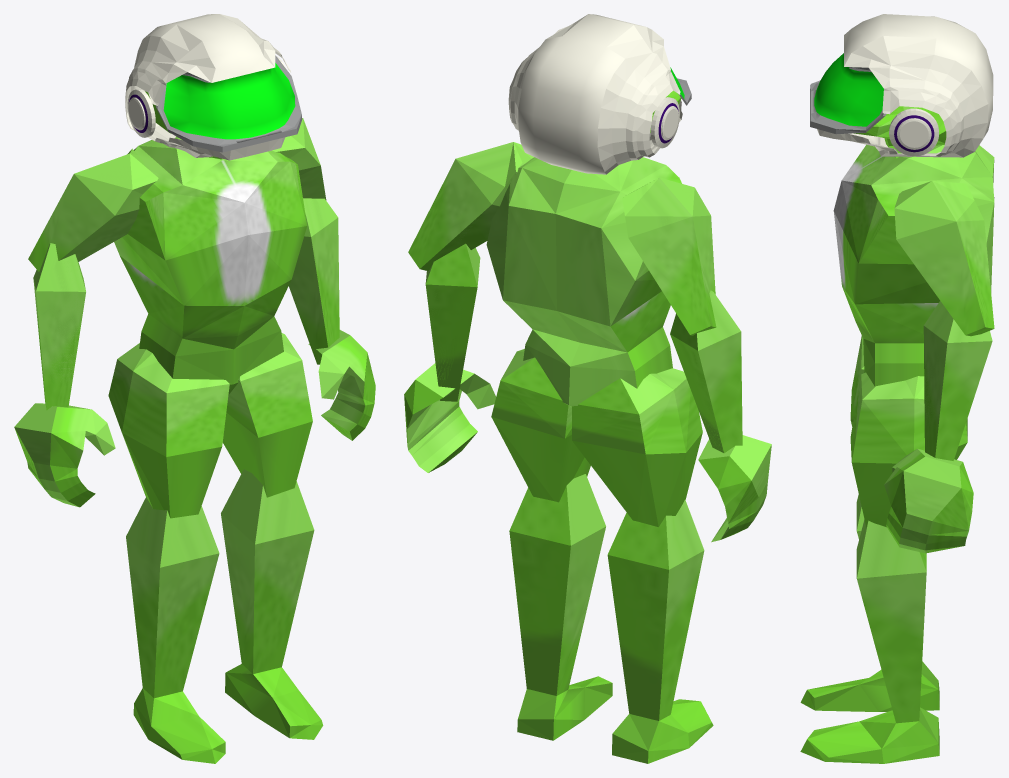
File: gloo_v8_rig2.fbx
The picture shows the model from 3 angles, left to right: view 1: azimuth 30°, elevation 25°; view 2: azimuth 150°, elevation 25°; view 3: azimuth 270°, elevation 25°; orthographic projection. The views are drawn at different scales.
Parts seen in each view (by area): view 1: c.torso, c.goggles, l.leg.lower, r.leg.lower, r.leg.thigh, l.leg.thigh, r.arm.upper, r_hand, r.arm.lower, l.arm.lower, l.hand, l.arm.upper; view 2: c.torso, c.goggles, r.leg.lower, l.leg.lower, r.leg.thigh, r.arm.upper, l.leg.thigh, l.arm.upper, r.arm.lower, l.hand, l.arm.lower, r_hand; view 3: c.goggles, c.torso, l.leg.lower, l.arm.upper, l.leg.thigh, l.hand, l.arm.lower, r.leg.lower, c.head, r.leg.thigh.
Boxes of the visible parts, left/top/right/bottom form: c.torso: left=114, top=136, right=306, bottom=394; c.goggles: left=125, top=14, right=302, bottom=160; l.leg.lower: left=221, top=469, right=323, bottom=739; r.leg.lower: left=126, top=497, right=225, bottom=763; r.leg.thigh: left=108, top=343, right=229, bottom=518; l.leg.thigh: left=222, top=333, right=312, bottom=497; r.arm.upper: left=28, top=148, right=158, bottom=271; r_hand: left=14, top=403, right=115, bottom=507; r.arm.lower: left=33, top=243, right=85, bottom=410; l.arm.lower: left=289, top=198, right=339, bottom=364; l.hand: left=308, top=330, right=375, bottom=440; l.arm.upper: left=272, top=118, right=326, bottom=200; c.torso: left=486, top=157, right=681, bottom=406; c.goggles: left=508, top=14, right=691, bottom=174; r.leg.lower: left=607, top=499, right=713, bottom=763; l.leg.lower: left=509, top=474, right=612, bottom=740; r.leg.thigh: left=572, top=368, right=702, bottom=526; r.arm.upper: left=622, top=177, right=716, bottom=335; l.leg.thigh: left=491, top=349, right=590, bottom=502; l.arm.upper: left=408, top=142, right=533, bottom=271; r.arm.lower: left=670, top=290, right=742, bottom=453; l.hand: left=404, top=363, right=495, bottom=472; l.arm.lower: left=425, top=243, right=480, bottom=401; r_hand: left=698, top=435, right=771, bottom=542; c.goggles: left=810, top=14, right=993, bottom=157; c.torso: left=833, top=144, right=994, bottom=386; l.leg.lower: left=800, top=519, right=939, bottom=763; l.arm.upper: left=894, top=181, right=994, bottom=336; l.leg.thigh: left=850, top=372, right=967, bottom=527; l.hand: left=884, top=448, right=973, bottom=553; l.arm.lower: left=923, top=301, right=992, bottom=460; r.leg.lower: left=800, top=494, right=939, bottom=711; c.head: left=854, top=106, right=946, bottom=158; r.leg.thigh: left=850, top=335, right=864, bottom=426.
Bounding box in the file's own units: 105 × 202 × 50.68.
5 materials, 1 textured.
